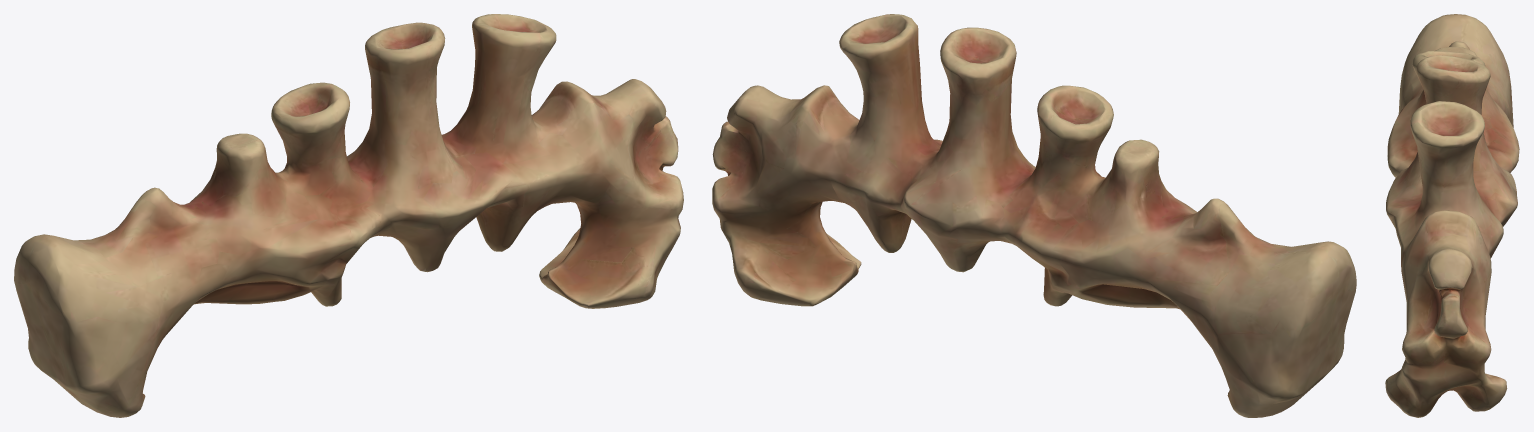
The model's file is vertebra.glb.
The picture shows the model from 3 angles, left to right: view 1: azimuth 30°, elevation 25°; view 2: azimuth 150°, elevation 25°; view 3: azimuth 270°, elevation 25°; orthographic projection. The views are drawn at different scales.
Parts seen in each view (by area): view 1: Mesh_0; view 2: Mesh_0; view 3: Mesh_0.
Boxes of the visible parts, left/top/right/bottom form: Mesh_0: left=14, top=14, right=683, bottom=417; Mesh_0: left=712, top=14, right=1356, bottom=417; Mesh_0: left=1385, top=14, right=1519, bottom=417.
Size of the model in its own units: 1.9 by 0.8734 by 0.395.
Materials: 1 (1 with a texture image).
